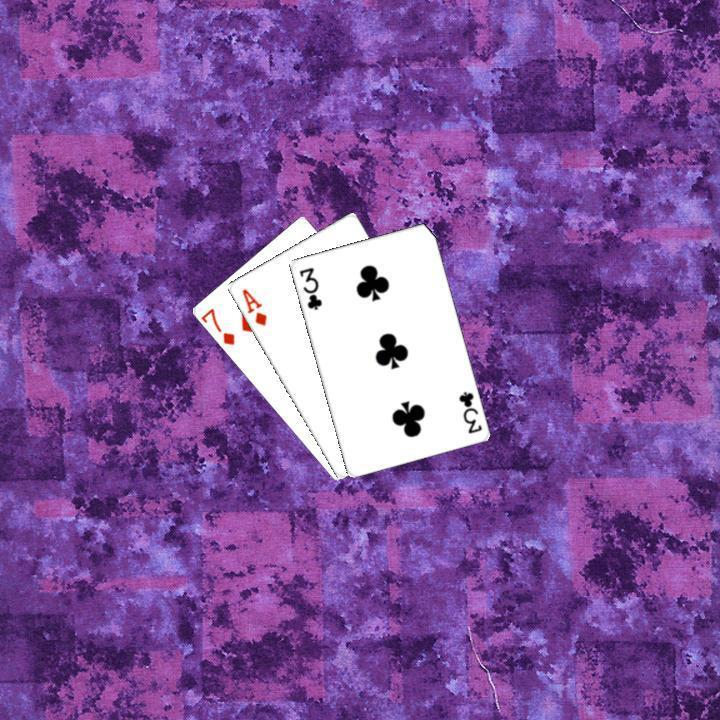3: (294, 262, 324, 312), (454, 386, 484, 435)
7: (197, 303, 236, 347)
A: (237, 284, 268, 328)
